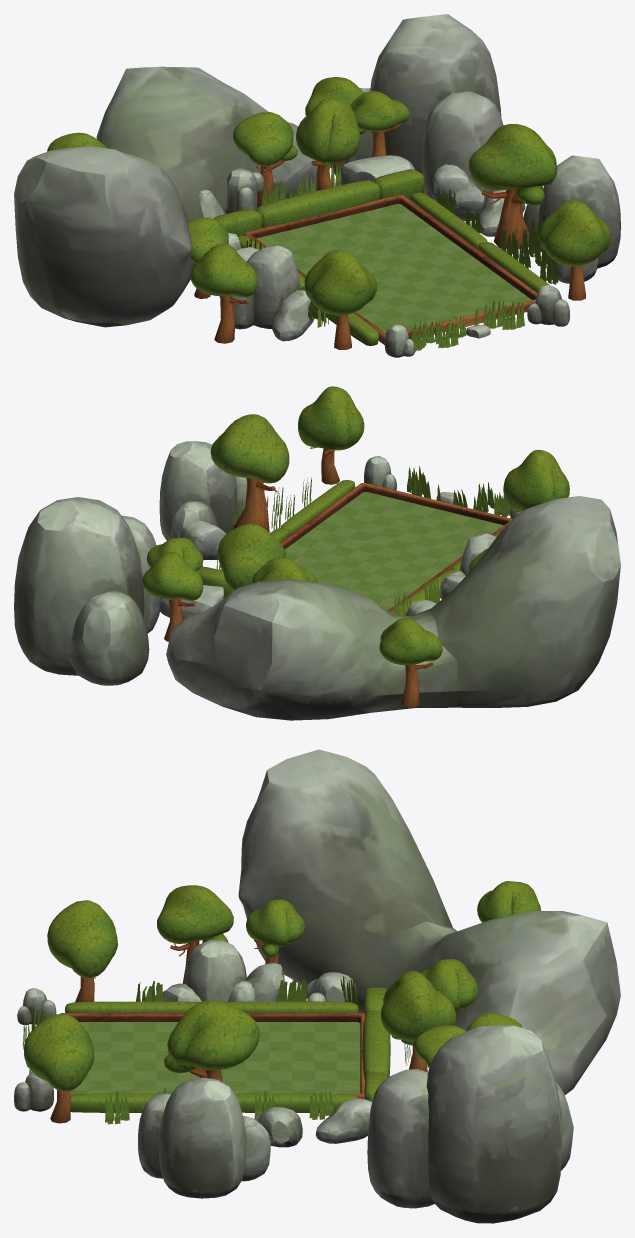
The model's file is Snake_Arena.fbx.
3 views of the same model, one above another, from view 1: azimuth 30°, elevation 25°; view 2: azimuth 150°, elevation 25°; view 3: azimuth 270°, elevation 25° (orthographic). The views are drawn at different scales.
Visible parts, largest first — view 1: Rock-11.002, Arena, Rock-12.002, Retopo_Mball.011, Cube.005, Rock-12.004, Retopo_Mball.008, Retopo_Mball.006, Retopo_Mball.003, Retopo_Mball.012, Rock-12.001, Retopo_Mball.010 (+14 smaller); view 2: Rock-11.002, Rock-12.002, Arena, Rock-12.004, Retopo_Mball.011, Retopo_Mball.008, Retopo_Mball.001, Retopo_Mball.003, Retopo_Mball.006, Retopo_Mball.015, Cube.001, Rock-1.001 (+7 smaller); view 3: Rock-11.002, Rock-12.002, Arena, Rock-12.004, Retopo_Mball.011, Retopo_Mball.008, Retopo_Mball.006, Retopo_Mball.003, Retopo_Mball.012, Rock-12.001, Cube.002, Cube.001 (+11 smaller).
Boxes of the visible parts, x1=… form: Rock-11.002: x1=14, y1=66, x2=330, y2=327; Arena: x1=243, y1=195, x2=537, y2=344; Rock-12.002: x1=331, y1=14, x2=503, y2=221; Retopo_Mball.011: x1=468, y1=124, x2=557, y2=249; Cube.005: x1=213, y1=169, x2=424, y2=236; Rock-12.004: x1=523, y1=155, x2=620, y2=283; Retopo_Mball.008: x1=538, y1=200, x2=610, y2=300; Retopo_Mball.006: x1=304, y1=249, x2=376, y2=349; Retopo_Mball.003: x1=296, y1=98, x2=360, y2=190; Retopo_Mball.012: x1=190, y1=243, x2=257, y2=343; Rock-12.001: x1=231, y1=245, x2=299, y2=329; Retopo_Mball.010: x1=233, y1=112, x2=297, y2=204; Rock-11.002: x1=166, y1=496, x2=620, y2=720; Rock-12.002: x1=14, y1=497, x2=160, y2=685; Arena: x1=280, y1=482, x2=512, y2=611; Rock-12.004: x1=159, y1=441, x2=264, y2=540; Retopo_Mball.011: x1=210, y1=414, x2=289, y2=532; Retopo_Mball.008: x1=298, y1=386, x2=364, y2=484; Retopo_Mball.001: x1=379, y1=617, x2=442, y2=707; Retopo_Mball.003: x1=218, y1=523, x2=286, y2=590; Retopo_Mball.006: x1=503, y1=449, x2=569, y2=512; Retopo_Mball.015: x1=142, y1=552, x2=203, y2=641; Cube.001: x1=280, y1=480, x2=502, y2=570; Rock-1.001: x1=180, y1=521, x2=226, y2=559; Rock-11.002: x1=238, y1=749, x2=620, y2=1094; Rock-12.002: x1=367, y1=1025, x2=573, y2=1223; Arena: x1=60, y1=1013, x2=364, y2=1098; Rock-12.004: x1=138, y1=1077, x2=270, y2=1198; Retopo_Mball.011: x1=164, y1=1000, x2=259, y2=1082; Retopo_Mball.008: x1=23, y1=1013, x2=94, y2=1123; Retopo_Mball.006: x1=47, y1=900, x2=117, y2=1001; Retopo_Mball.003: x1=380, y1=970, x2=456, y2=1071; Retopo_Mball.012: x1=157, y1=885, x2=233, y2=983; Rock-12.001: x1=184, y1=939, x2=255, y2=1001; Cube.002: x1=224, y1=1001, x2=358, y2=1112; Cube.001: x1=65, y1=1001, x2=201, y2=1112.
Size of what is drawn, in the model's own units: 40.82 by 14.49 by 37.
